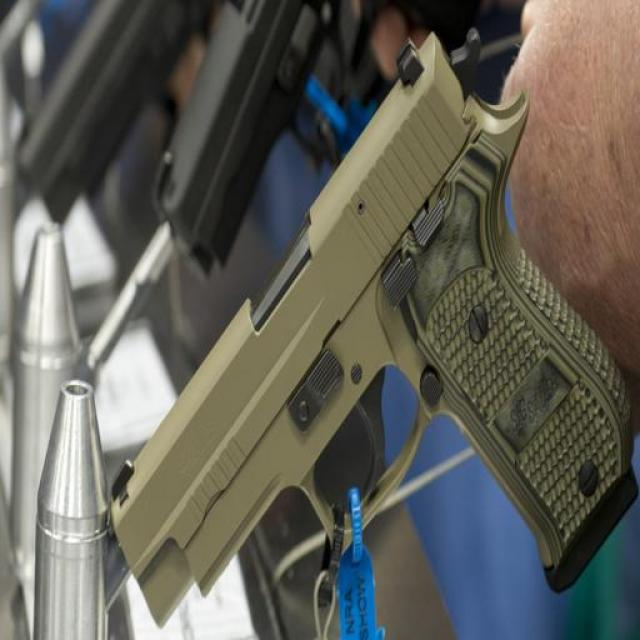pistol: (106, 27, 637, 625)
